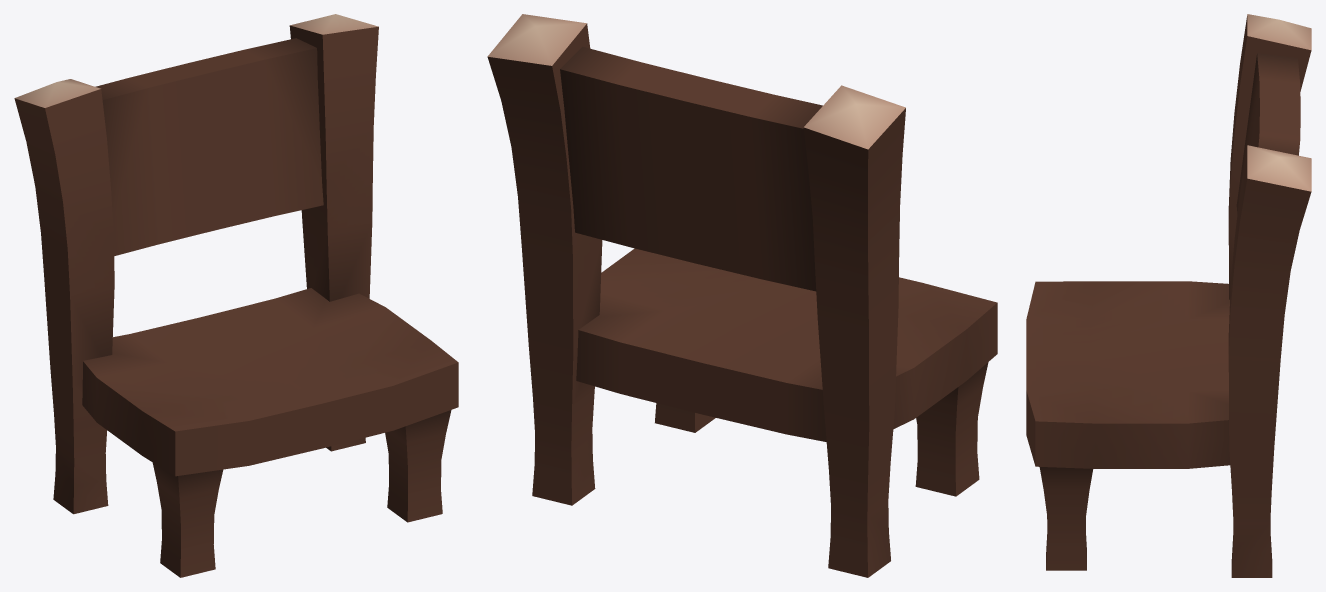
The model's file is Furniture_Chair.fbx.
3 renders of one model, left to right at view 1: azimuth 30°, elevation 25°; view 2: azimuth 150°, elevation 25°; view 3: azimuth 270°, elevation 25°, orthographic. The views are drawn at different scales.
Parts seen in each view (by area): view 1: Cube; view 2: Cube; view 3: Cube.
Boxes of the visible parts, x1,y1,x2,y2 form: Cube: (14,14,458,577); Cube: (487,14,997,577); Cube: (1026,14,1311,577).
Size of the model in its own units: 229 by 270 by 167.
